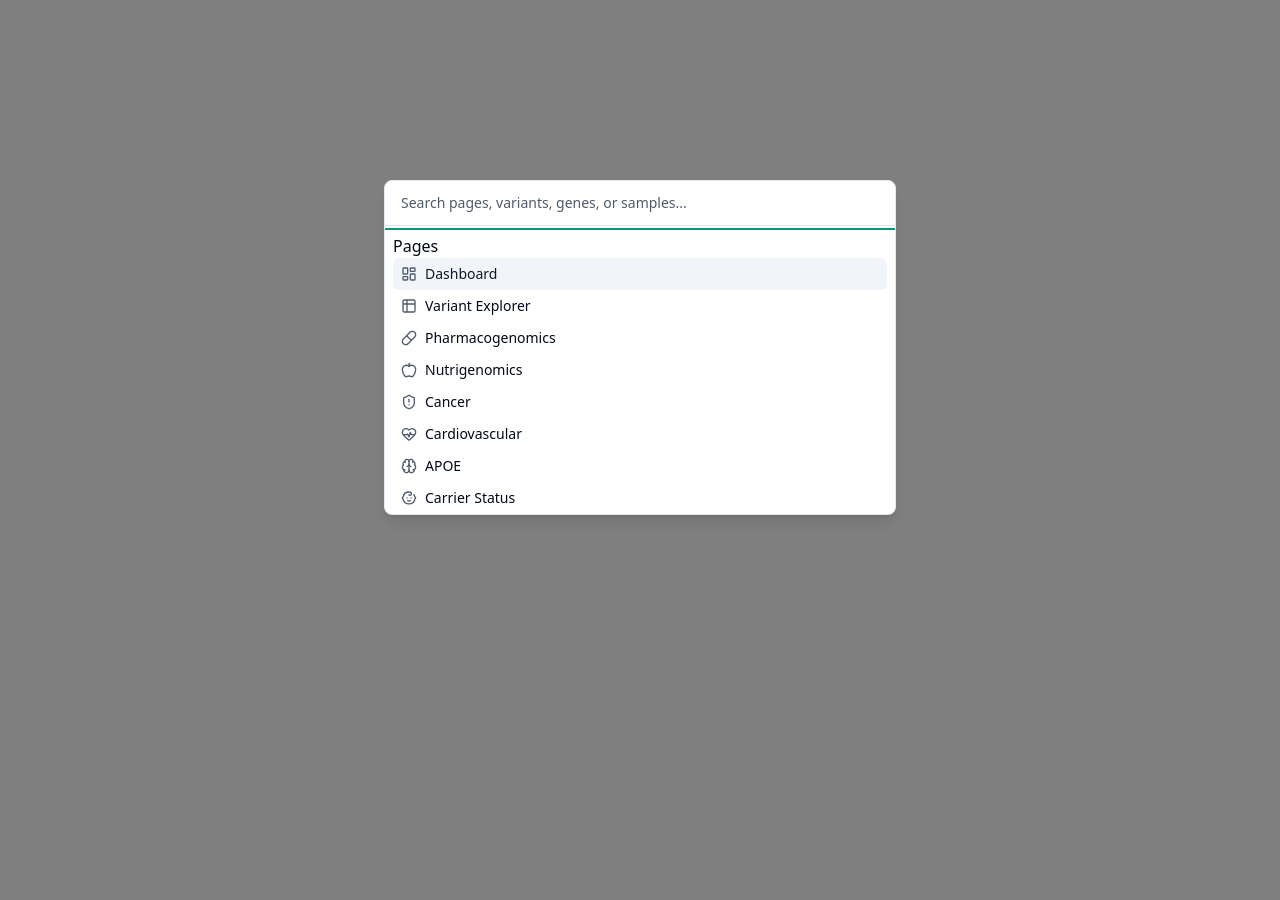
Scenario: CommandPalette › filters pages by search text
This screenshot has width=1280, height=900.
Type "Pharma" into the dropdown with test id "command-palette-input" at (640, 204), box x1=385 y1=181 x2=895 y2=226
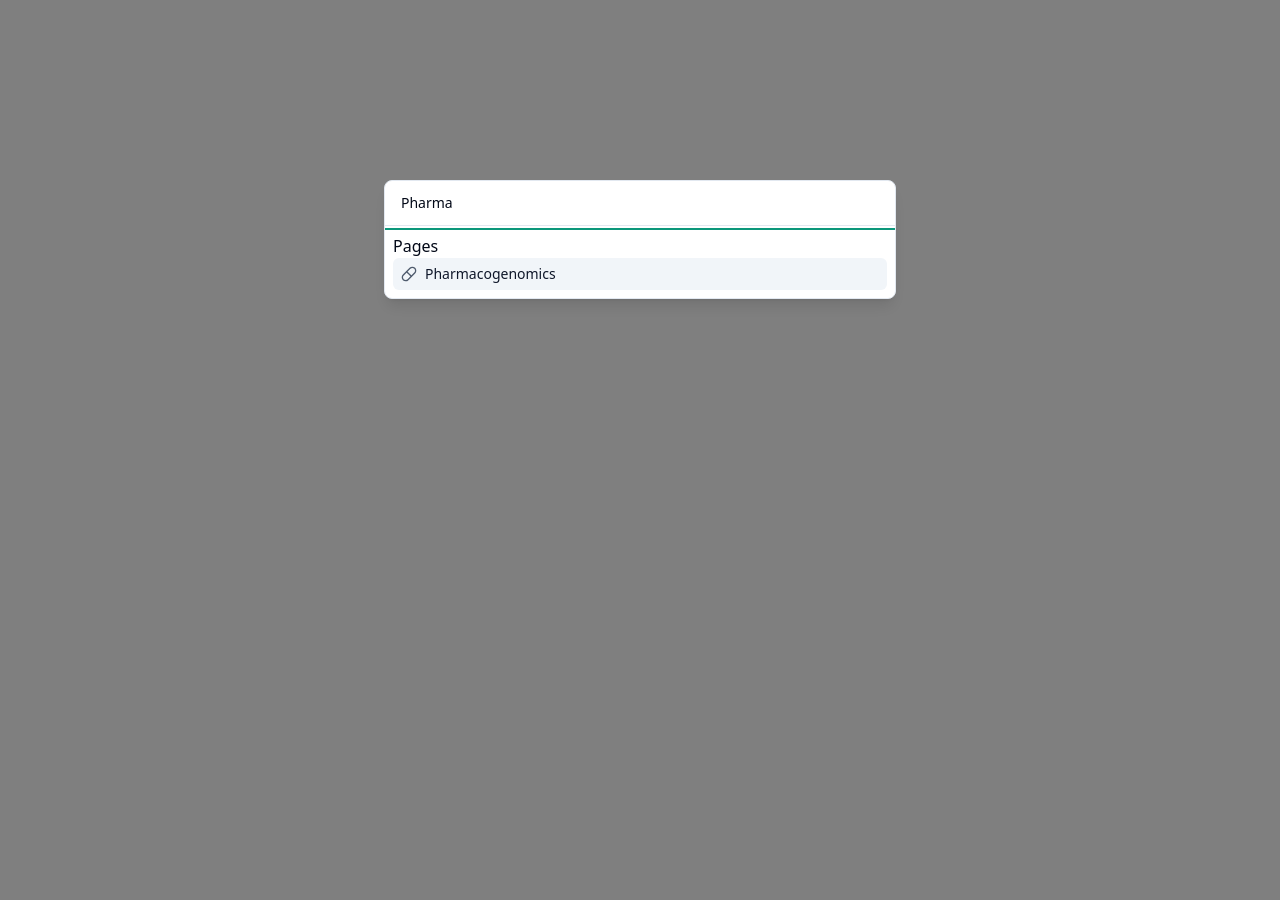
Expected: the text "Pharmacogenomics" is shown, x1=425 y1=264 x2=556 y2=284
Expected: the option "Nutrigenomics" is gone
